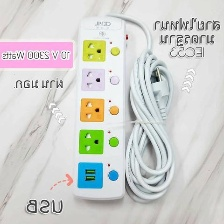three_eye_plug: (71, 12, 131, 203)
